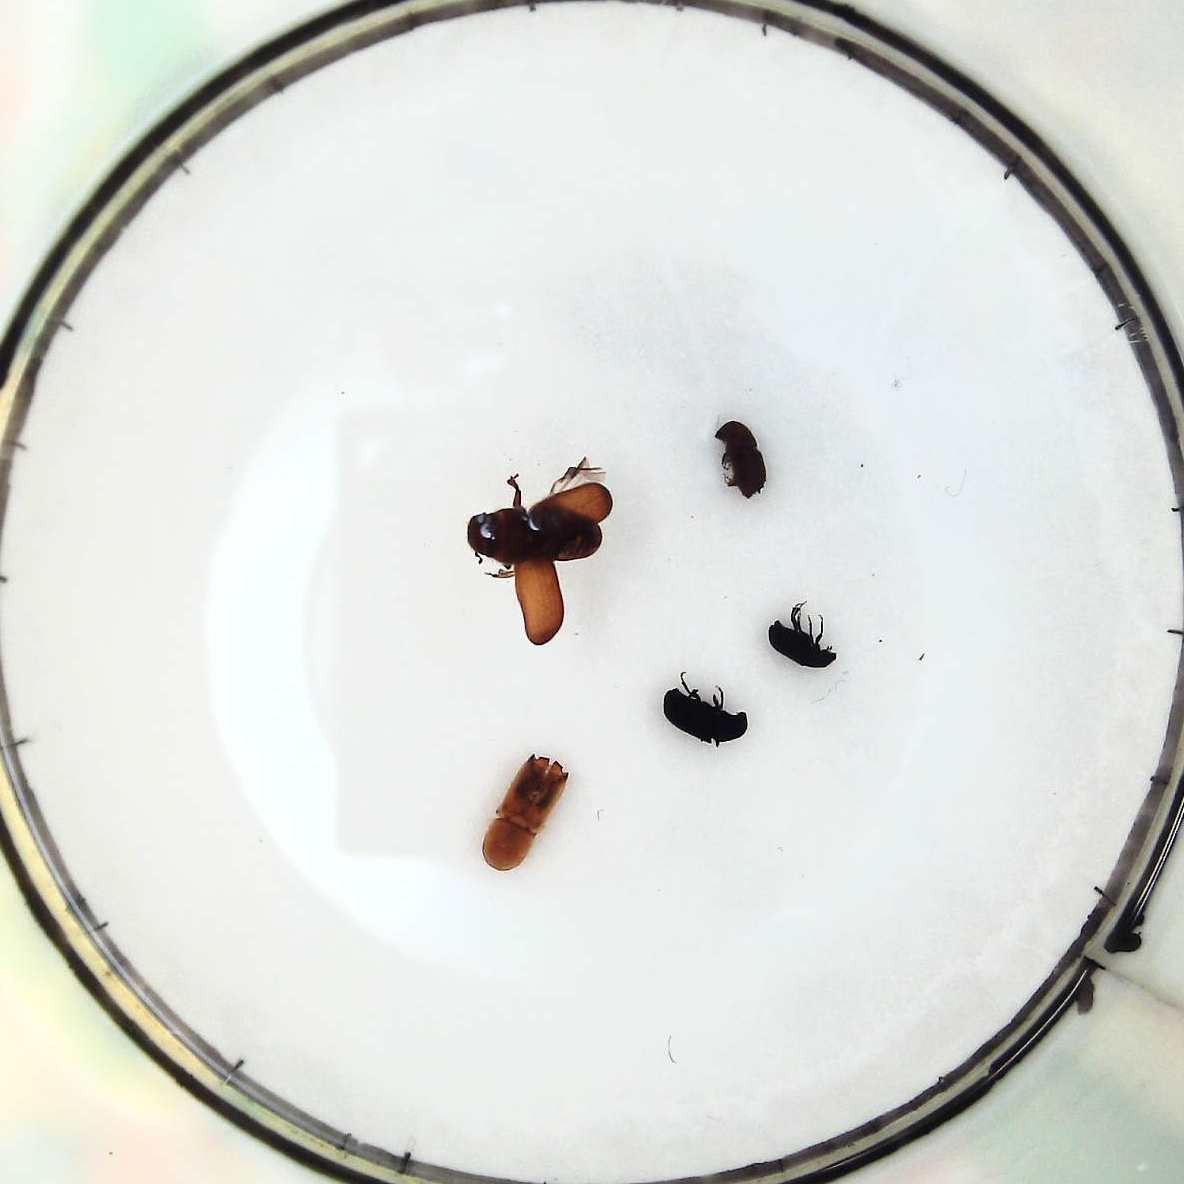Boerner: (480, 757, 566, 876)
Leconte: (466, 467, 610, 645)
Linnaeus: (715, 421, 768, 499)
armandi: (666, 679, 751, 745)
coleoptera: (769, 615, 835, 675)
